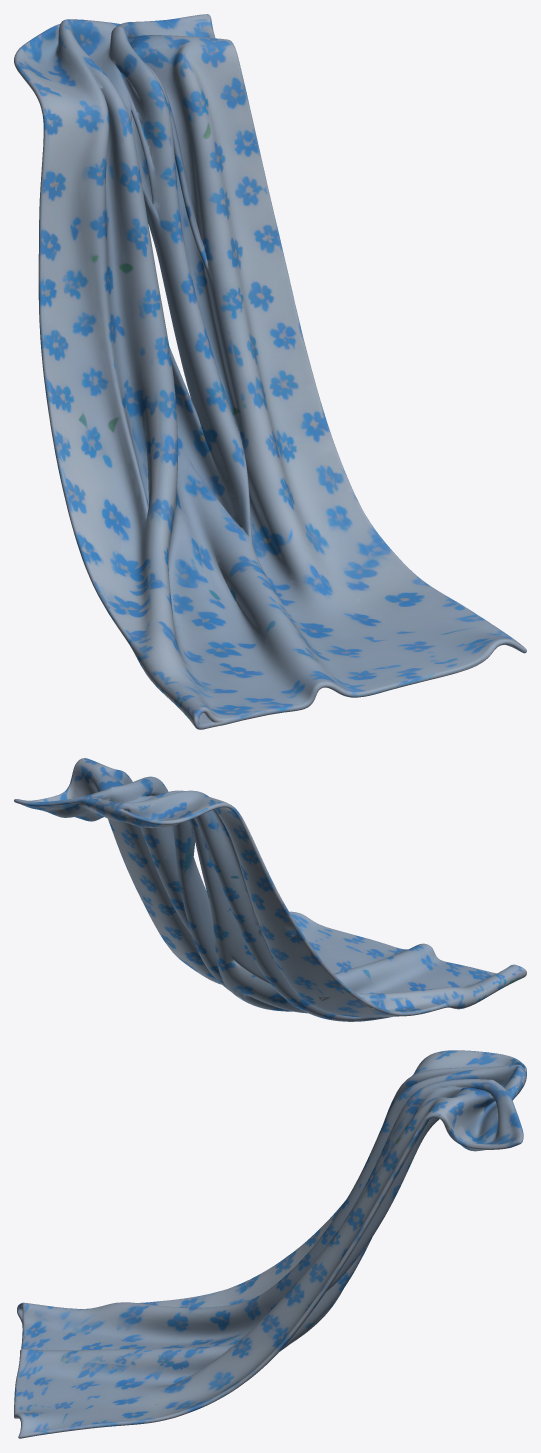
File: cloth-finished.web.glb
The picture shows the model from 3 angles, top to bottom: view 1: azimuth 30°, elevation 25°; view 2: azimuth 150°, elevation 25°; view 3: azimuth 270°, elevation 25°; orthographic projection. The views are drawn at different scales.
Visible parts, largest first — view 1: material; view 2: material; view 3: material.
Boxes of the visible parts, box(x1,y1,x2,y2) form: material: box(14, 14, 526, 729); material: box(14, 758, 526, 1021); material: box(14, 1050, 526, 1438).
Bounding box in the file's own units: 0.5342 × 0.6358 × 0.9038.
1 material, 1 textured.
